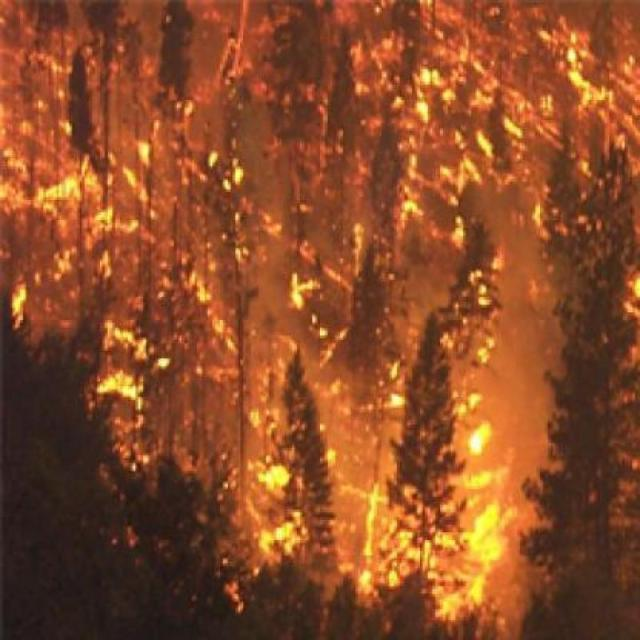Fire: (4, 130, 639, 640)
